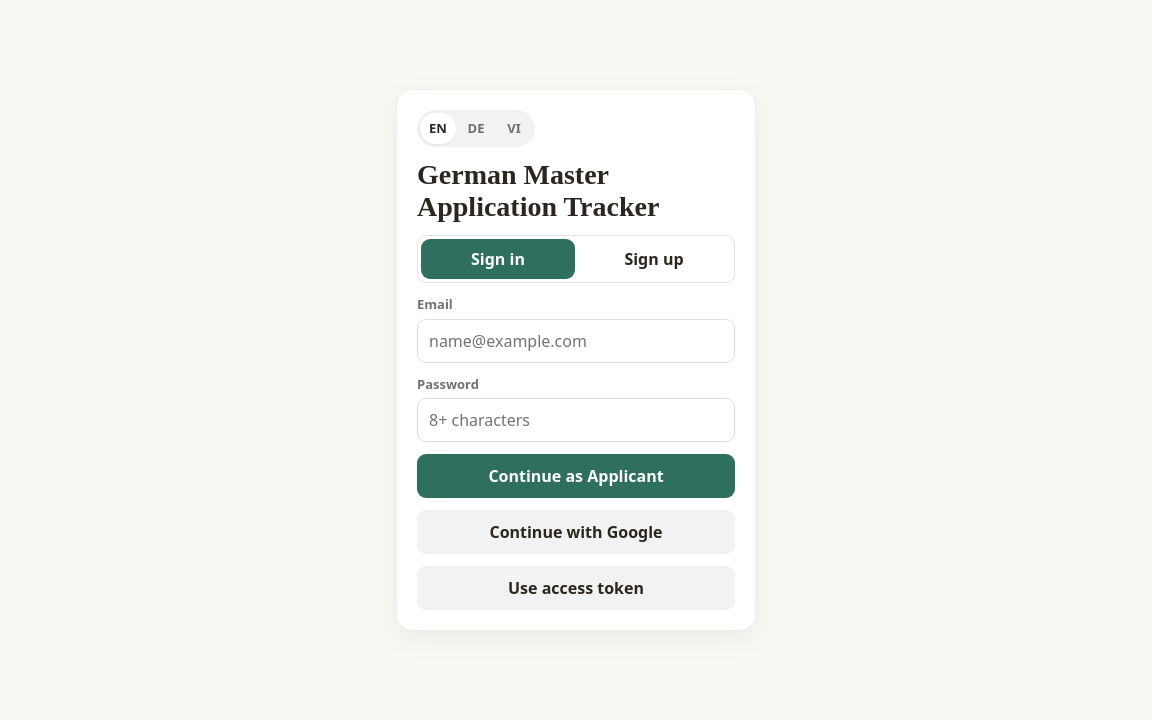
Test: lets logged-in users log out from the shell
The image size is (1152, 720).
Type "applicant@example.com" into the field labelled "Email" at x=576, y=341, box [417,319,735,363]
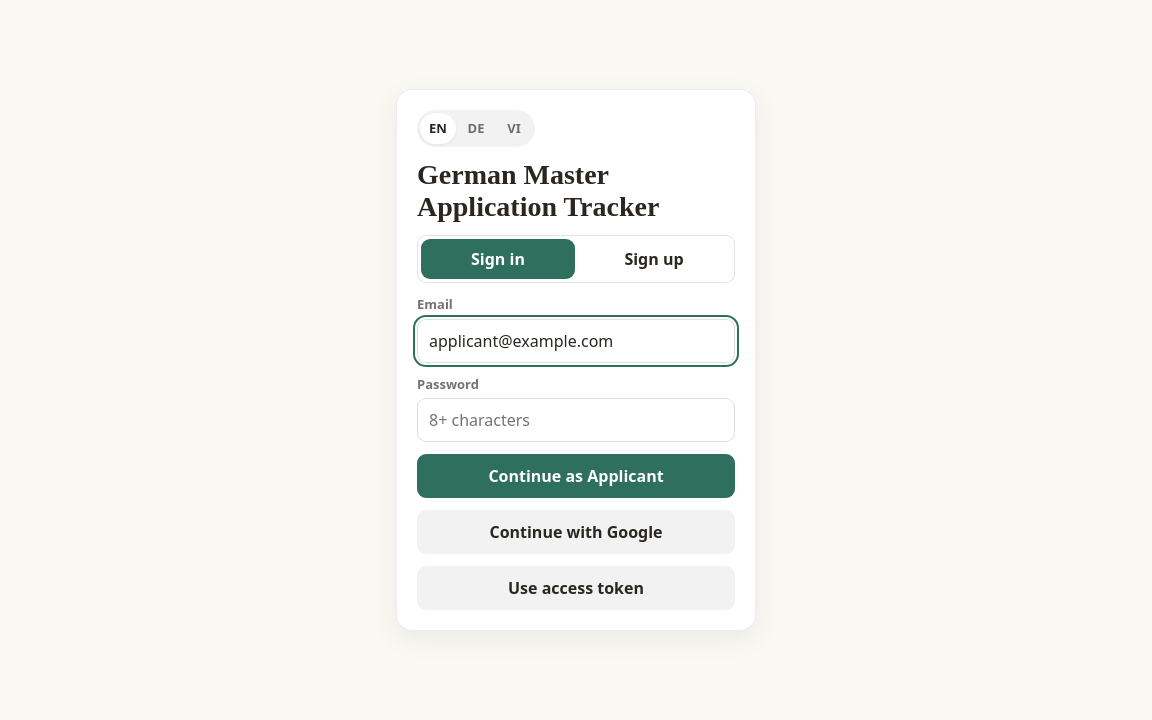
Type "application-2026" into the password field with placeholder "8+ characters" at x=576, y=420, box [417,398,735,442]
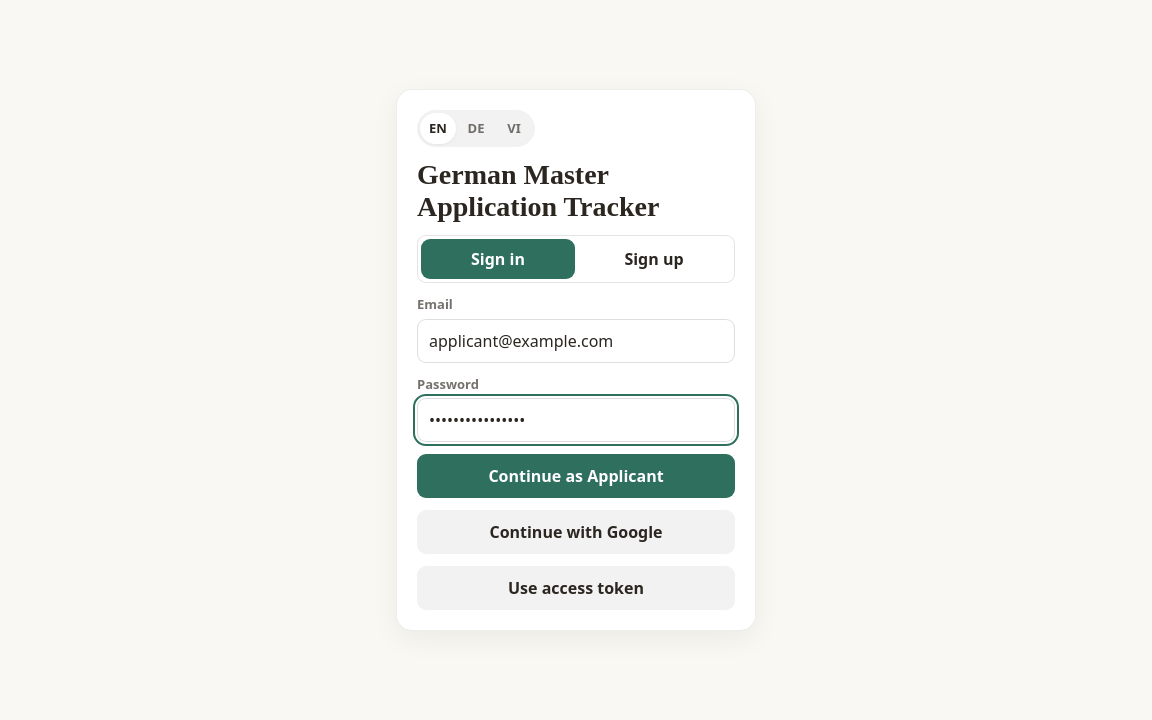
Click the button "Continue as Applicant" at x=576, y=476, box [417,454,735,498]
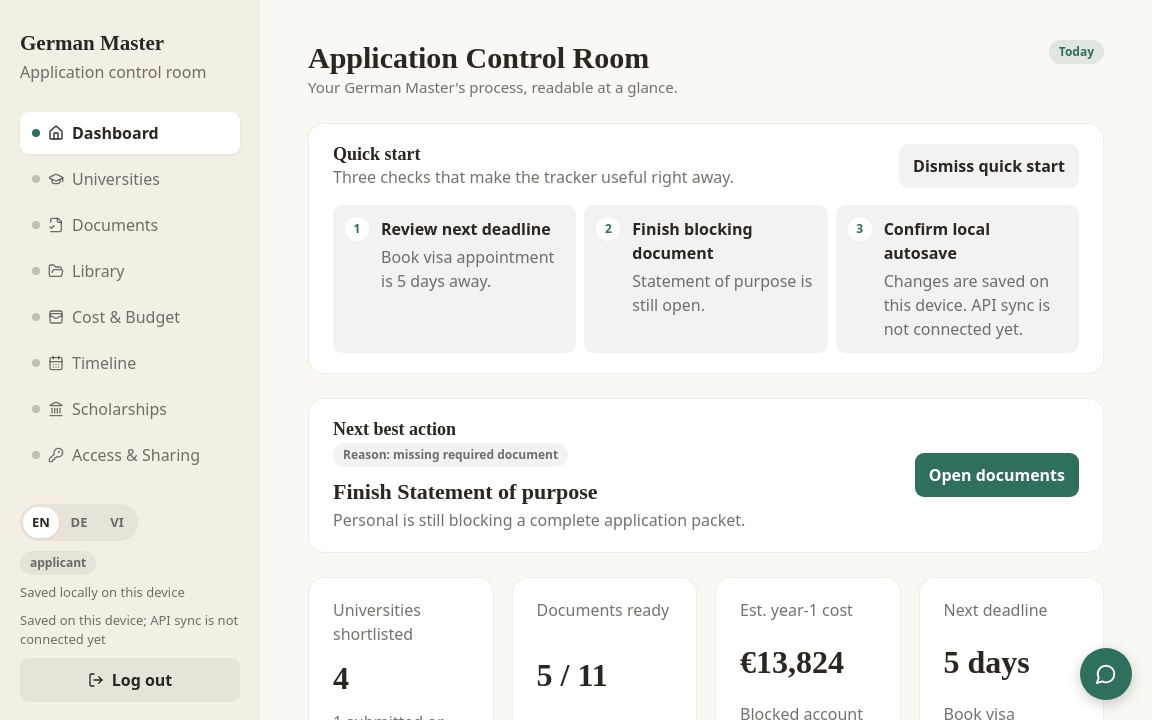
Click the button "Log out" at x=130, y=680, box [20,658,240,702]
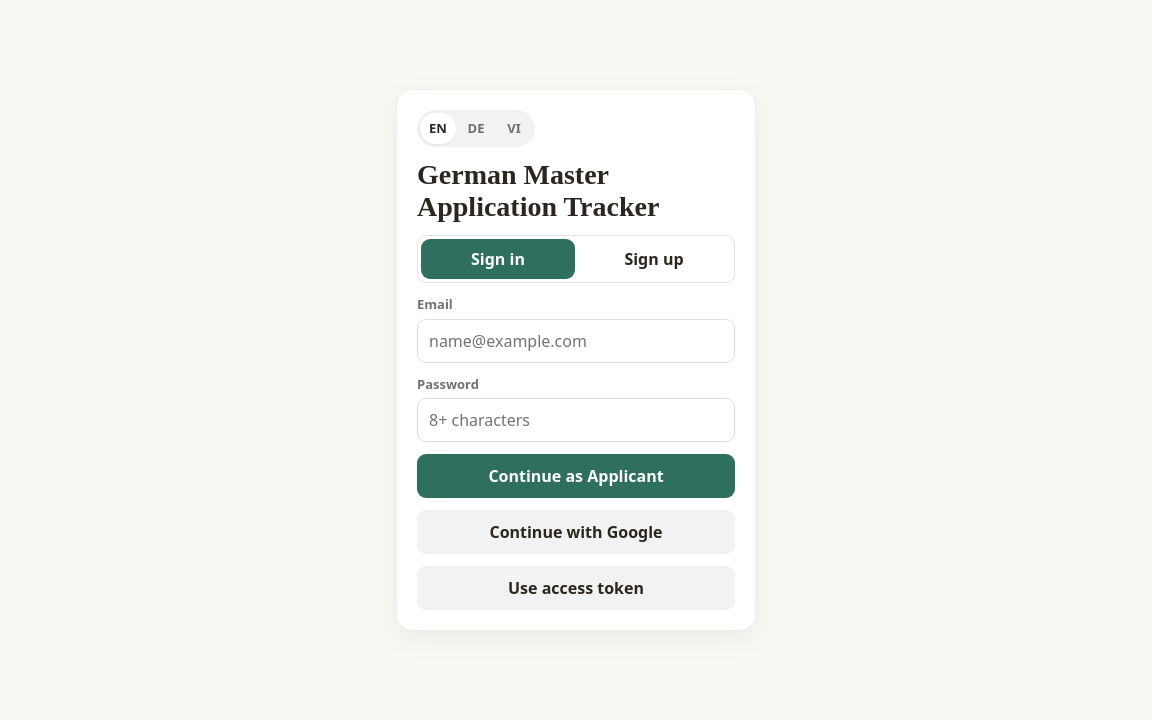
Expected: the button "Continue as Applicant" is shown, [417,454,735,498]
